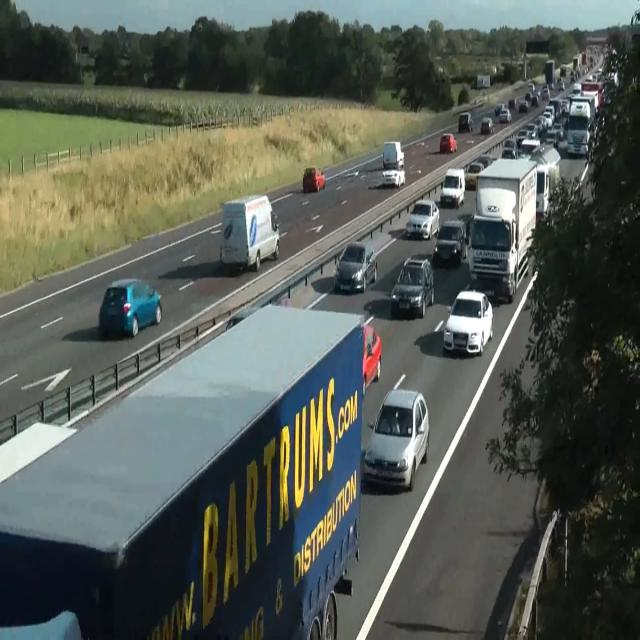bus: (226, 302, 382, 398), (363, 388, 429, 490), (98, 277, 162, 338), (333, 239, 377, 293), (362, 323, 382, 398), (302, 166, 325, 193), (464, 162, 484, 189), (382, 165, 405, 188), (440, 132, 458, 154), (458, 112, 473, 132), (480, 116, 495, 134), (476, 153, 492, 168), (498, 108, 512, 124), (495, 102, 505, 116), (518, 99, 528, 112)
jeep: (443, 288, 493, 356), (390, 254, 434, 318), (433, 219, 467, 265), (406, 198, 440, 240), (440, 167, 465, 208)
minibus: (0, 303, 365, 639), (467, 156, 537, 302), (219, 194, 280, 272), (529, 142, 561, 225), (382, 140, 405, 188), (544, 60, 554, 87), (476, 74, 490, 88)
